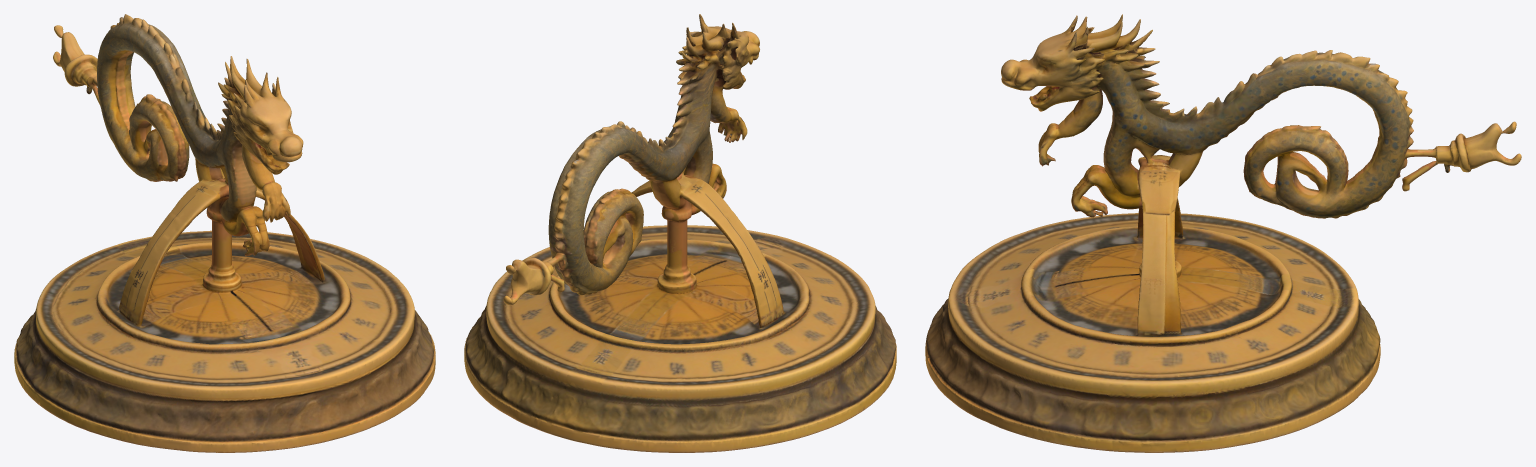
3 views of the same model, side by side, from view 1: azimuth 30°, elevation 25°; view 2: azimuth 150°, elevation 25°; view 3: azimuth 270°, elevation 25° (orthographic). The views are drawn at different scales.
Size of the model in its own units: 1.53 by 1.26 by 2.
Materials: 1 (1 with a texture image).
